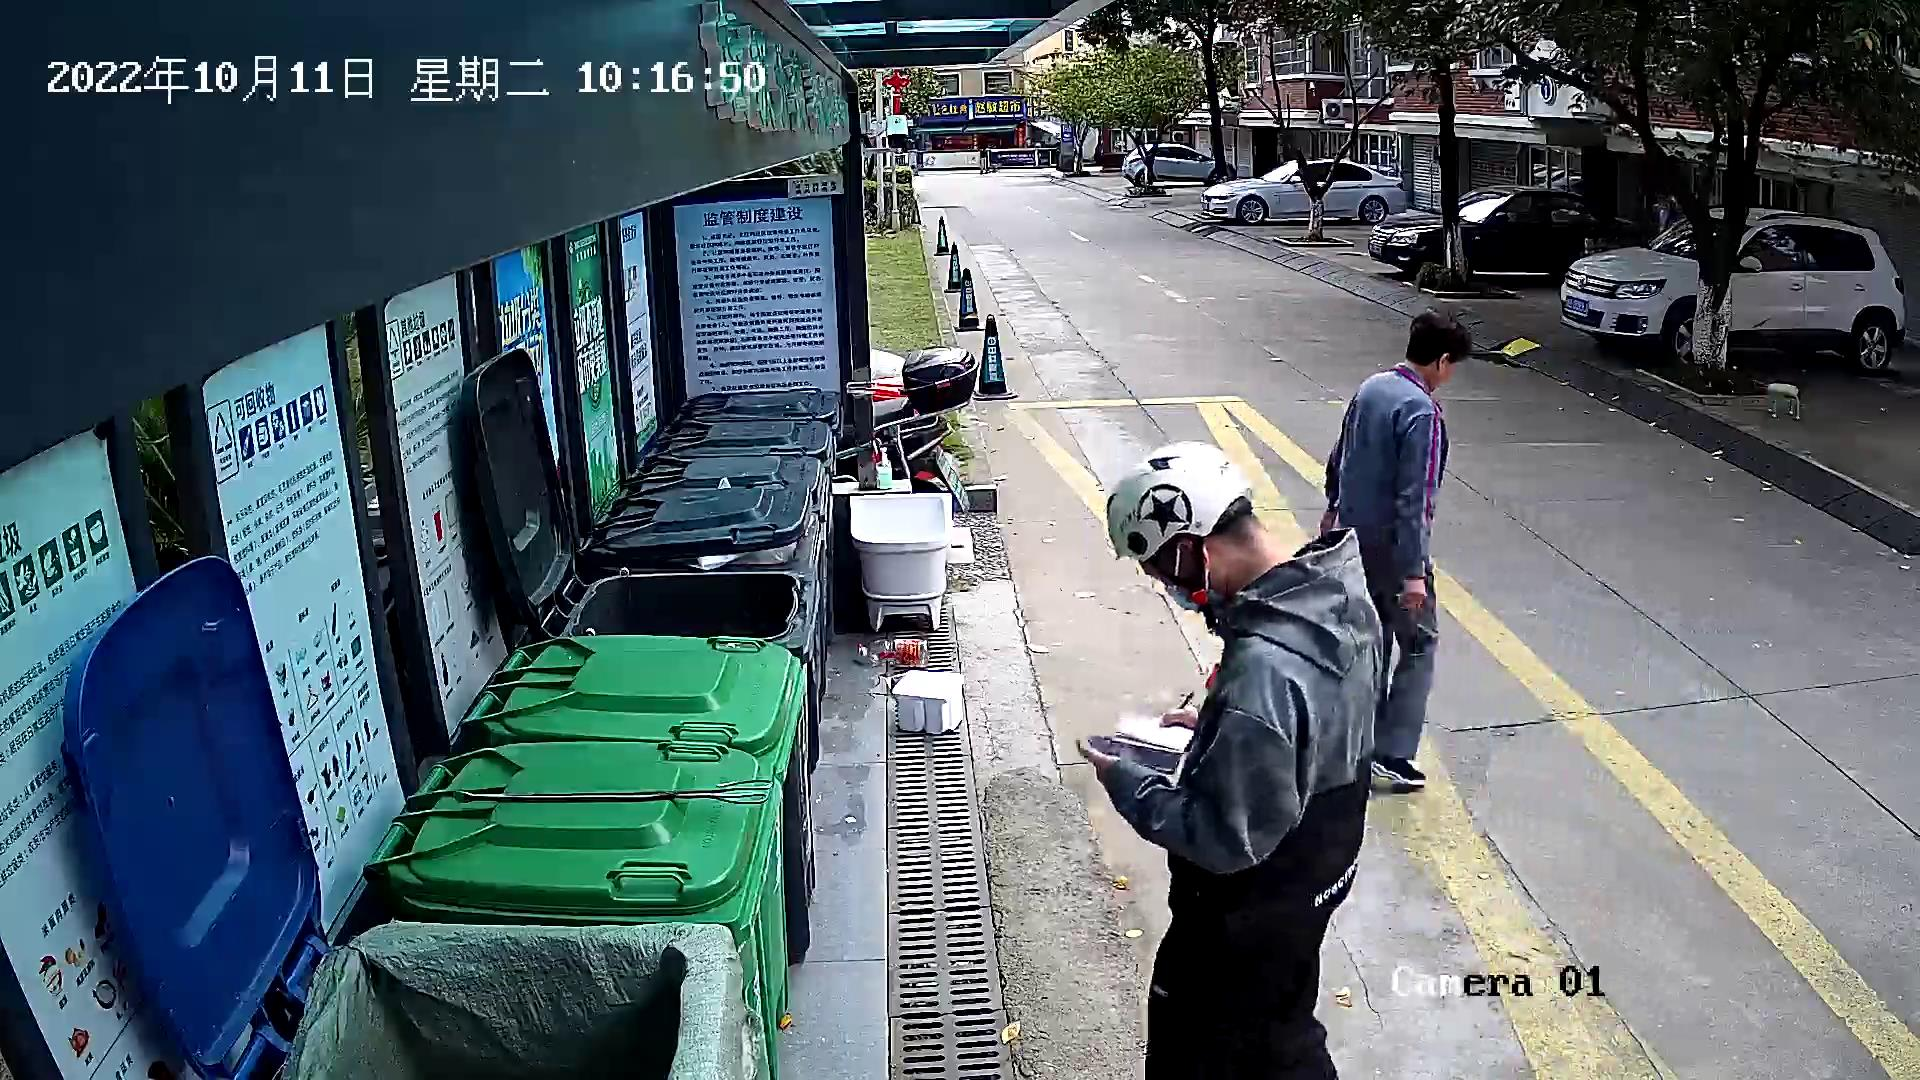paomozhipin: (886, 666, 972, 739)
person: (1066, 431, 1393, 1080), (1312, 306, 1481, 800)
suliaozhipin: (849, 624, 935, 676)
